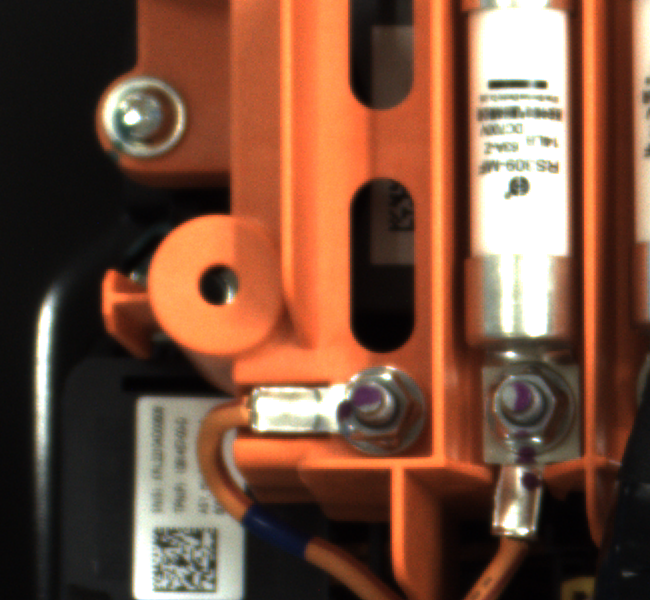screw_m: (101, 74, 197, 158)
screw_s: (331, 362, 465, 467), (486, 361, 593, 475)
